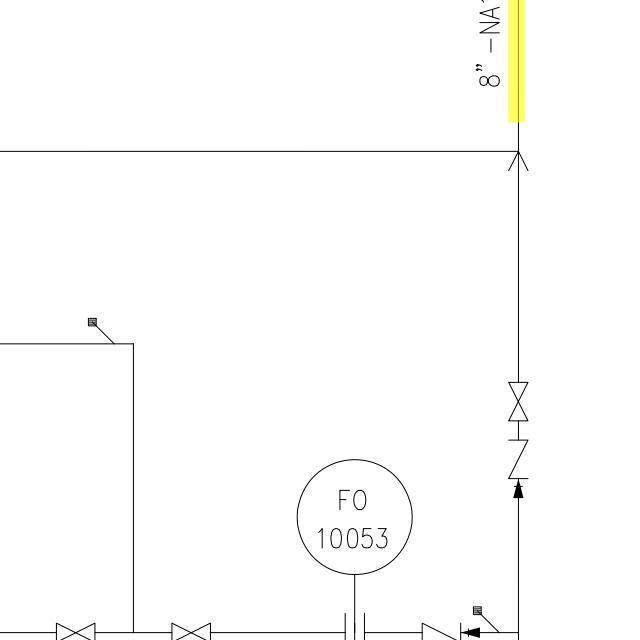GV: (504, 376, 533, 425), (48, 618, 97, 640), (167, 619, 214, 640)
